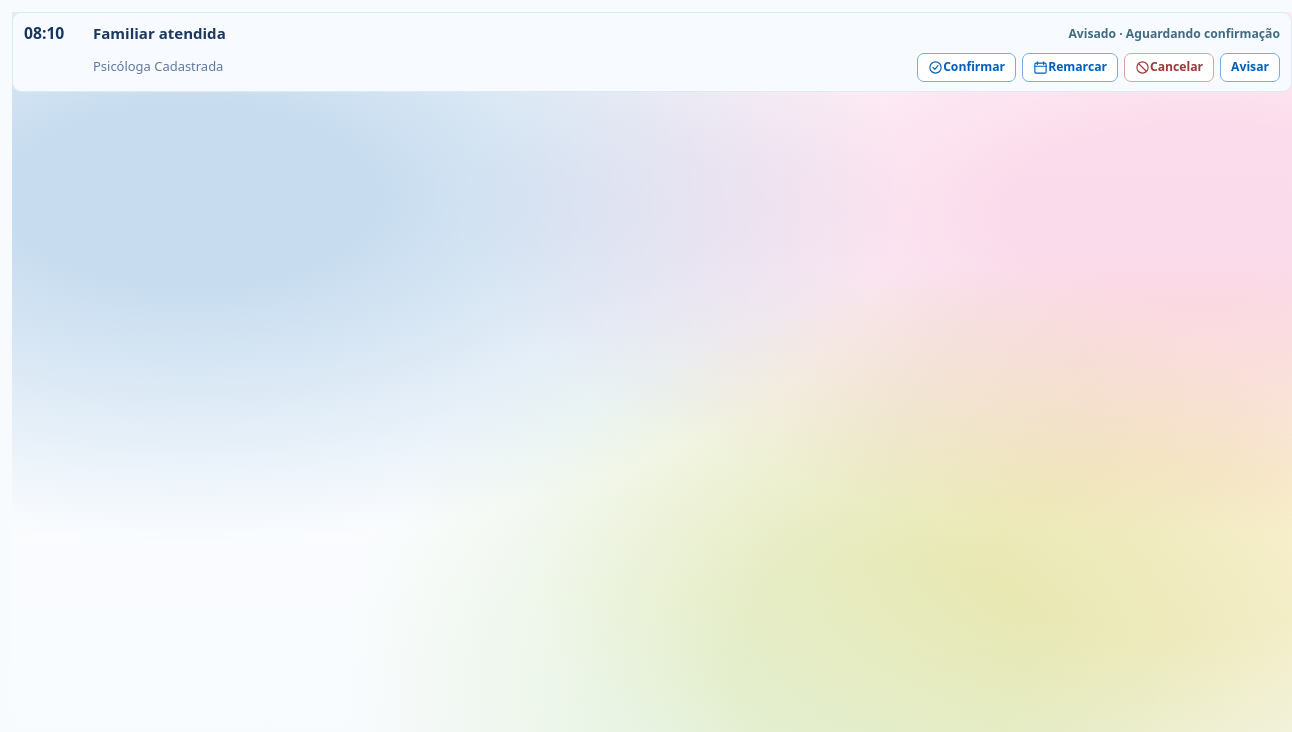
it: Home administrativa — agenda compartilhada por horário › confirma familiar pela RPC própria e mostra confirmação manual sem alterar presença
Click the button with aria-label "Confirmar manualmente Familiar atendida": {"x": 967, "y": 67} [917,52,1016,82]
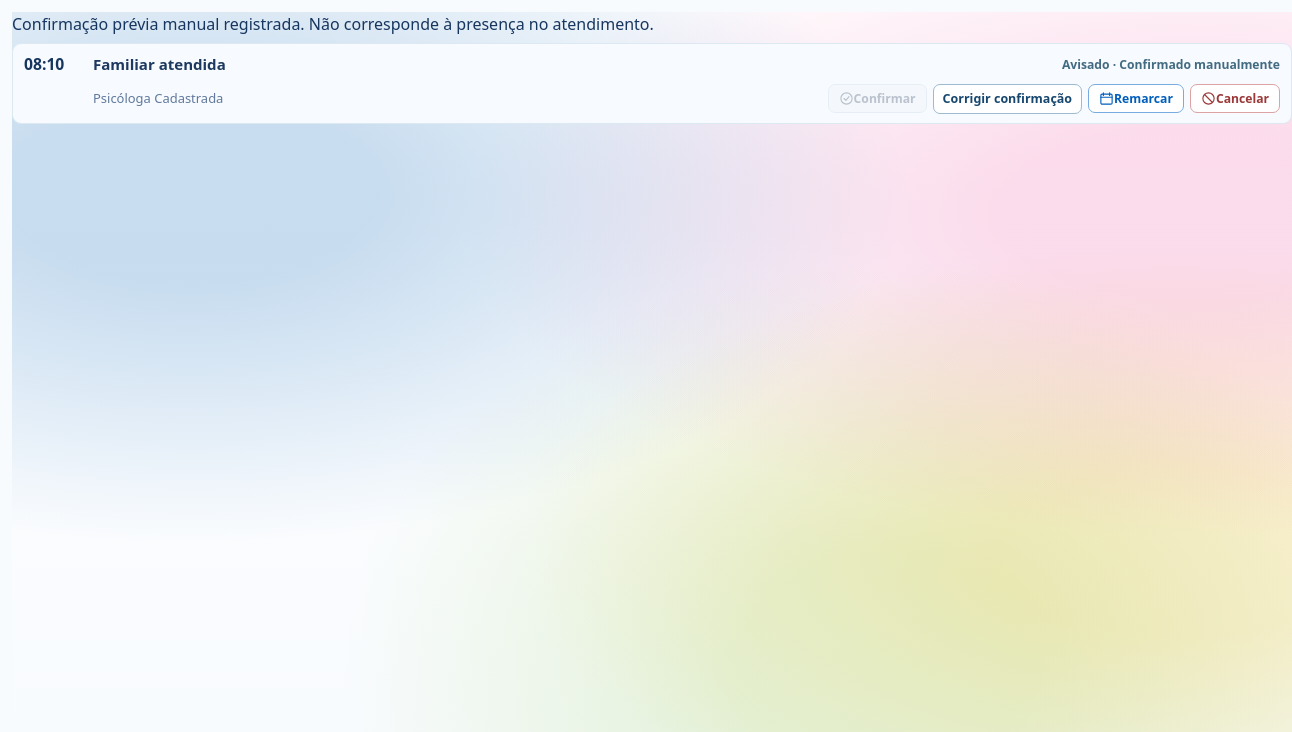
Expected: the text "Avisado · Confirmado manualmente" is shown, [1062,56,1280,74]
Expected: the button with aria-label "Confirmar manualmente Familiar atendida" is disabled, [828,84,927,113]
